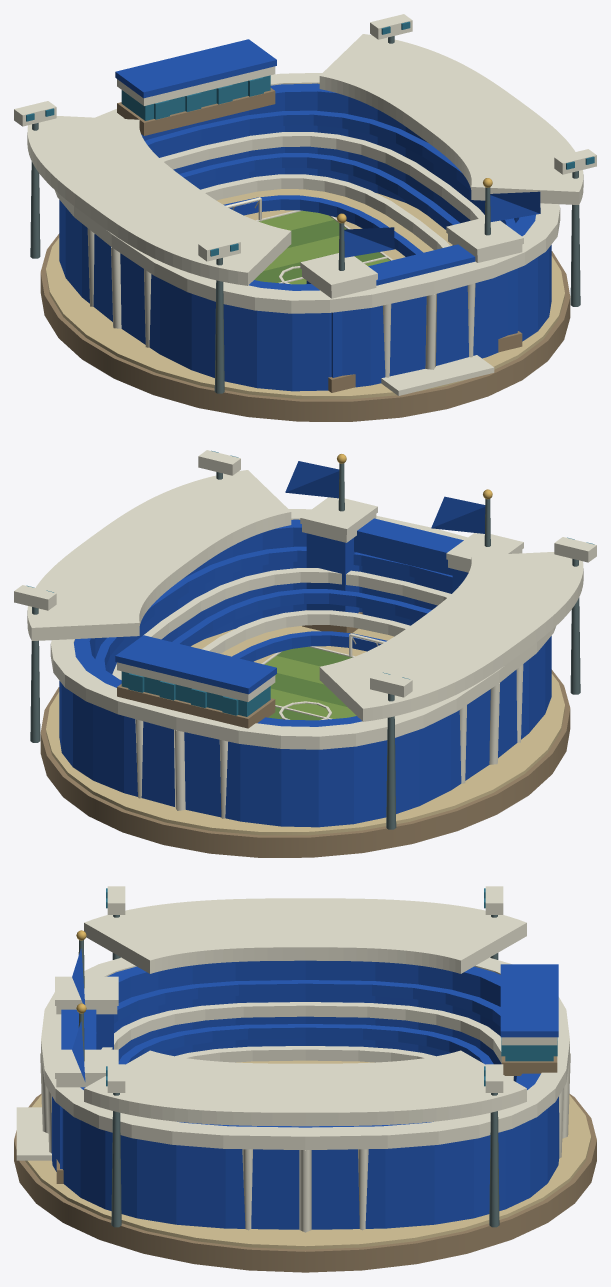
File: main-stadium-lv4.glb
The picture shows the model from 3 angles, top to bottom: view 1: azimuth 30°, elevation 25°; view 2: azimuth 150°, elevation 25°; view 3: azimuth 270°, elevation 25°; orthographic projection. The views are drawn at different scales.
Visible parts, largest first — view 1: stadium_shell_royal, canopy_white, foundation_stoneDark, seating_royal, upper_concourse_white, foundation_sand, seating_white, media_box_roof_royal, entrance_pylons_roof_white, facade_ribs_white, lighting_iron, lighting_white (+14 smaller); view 2: stadium_shell_royal, canopy_white, foundation_stoneDark, foundation_sand, upper_concourse_white, seating_royal, seating_white, media_box_roof_royal, facade_ribs_white, entrance_bridge_royal, entrance_pylons_roof_white, lighting_white (+12 smaller); view 3: stadium_shell_royal, canopy_white, upper_concourse_white, foundation_stoneDark, seating_royal, foundation_sand, seating_white, media_box_roof_royal, facade_ribs_white, entrance_pylons_roof_white, lighting_iron, lighting_white (+8 smaller).
Part boxes in pixels (<box>): stadium_shell_royal: <box>59,83,551,391</box>; canopy_white: <box>27,34,583,285</box>; foundation_stoneDark: <box>40,233,570,421</box>; seating_royal: <box>145,110,515,256</box>; upper_concourse_white: <box>55,73,560,313</box>; foundation_sand: <box>46,189,564,399</box>; seating_white: <box>159,132,484,249</box>; media_box_roof_royal: <box>115,39,276,98</box>; entrance_pylons_roof_white: <box>300,217,523,290</box>; facade_ribs_white: <box>87,228,475,377</box>; lighting_iron: <box>30,36,580,393</box>; lighting_white: <box>14,14,596,261</box>; stadium_shell_royal: <box>59,519,551,827</box>; canopy_white: <box>27,470,583,721</box>; foundation_stoneDark: <box>40,669,570,857</box>; foundation_sand: <box>46,626,564,835</box>; upper_concourse_white: <box>50,509,555,749</box>; seating_royal: <box>95,546,452,669</box>; seating_white: <box>112,568,451,679</box>; media_box_roof_royal: <box>115,635,276,694</box>; facade_ribs_white: <box>135,664,523,818</box>; entrance_bridge_royal: <box>354,518,463,575</box>; entrance_pylons_roof_white: <box>300,497,523,565</box>; lighting_white: <box>14,450,596,697</box>; stadium_shell_royal: <box>51,960,559,1229</box>; canopy_white: <box>84,898,526,1126</box>; upper_concourse_white: <box>41,957,569,1150</box>; foundation_stoneDark: <box>14,1094,596,1272</box>; seating_royal: <box>96,980,520,1082</box>; foundation_sand: <box>25,1060,591,1249</box>; seating_white: <box>101,1002,513,1080</box>; media_box_roof_royal: <box>500,964,558,1037</box>; facade_ribs_white: <box>40,1053,570,1232</box>; entrance_pylons_roof_white: <box>55,976,118,1078</box>; lighting_iron: <box>111,915,499,1227</box>; lighting_white: <box>107,886,503,1092</box>.
Size of the model in its own units: 0.9074 by 0.3662 by 1.
